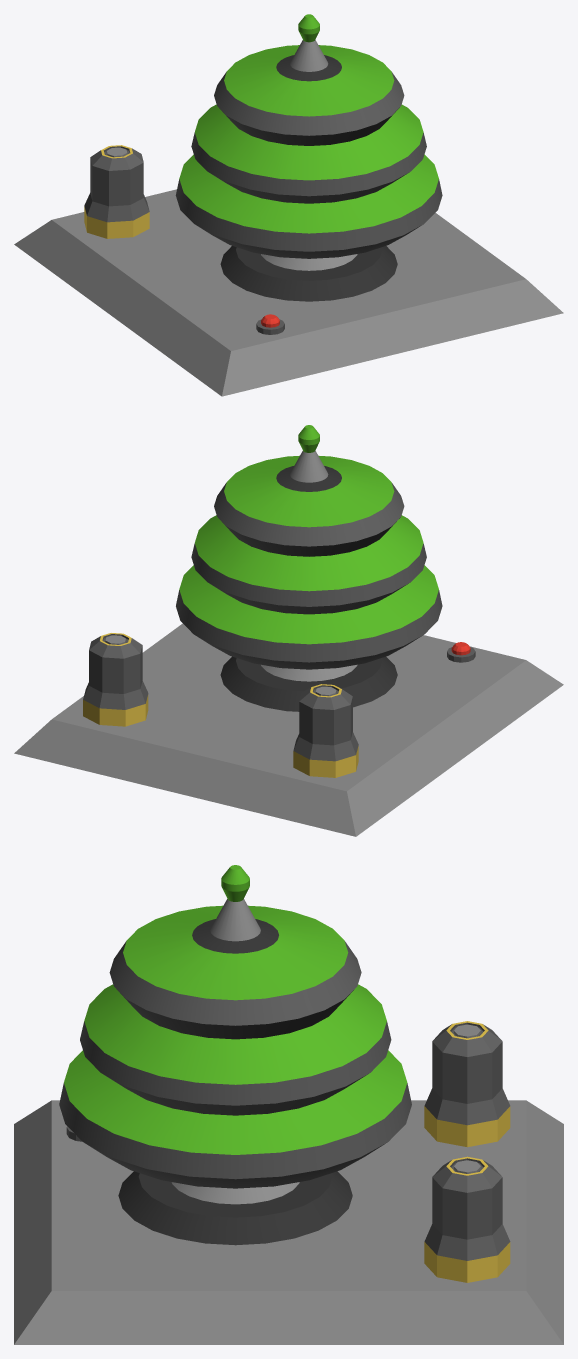
The model's file is transistor.glb.
The picture shows the model from 3 angles, top to bottom: view 1: azimuth 30°, elevation 25°; view 2: azimuth 150°, elevation 25°; view 3: azimuth 270°, elevation 25°; orthographic projection. The views are drawn at different scales.
Parts seen in each view (by area): view 1: Transistor; view 2: Transistor; view 3: Transistor.
Part boxes in pixels (bbox=[...]): Transistor: bbox=[14, 14, 563, 396]; Transistor: bbox=[14, 425, 563, 836]; Transistor: bbox=[14, 865, 563, 1344].
Bounding box in the file's own units: 0.9252 × 0.7173 × 0.974.
